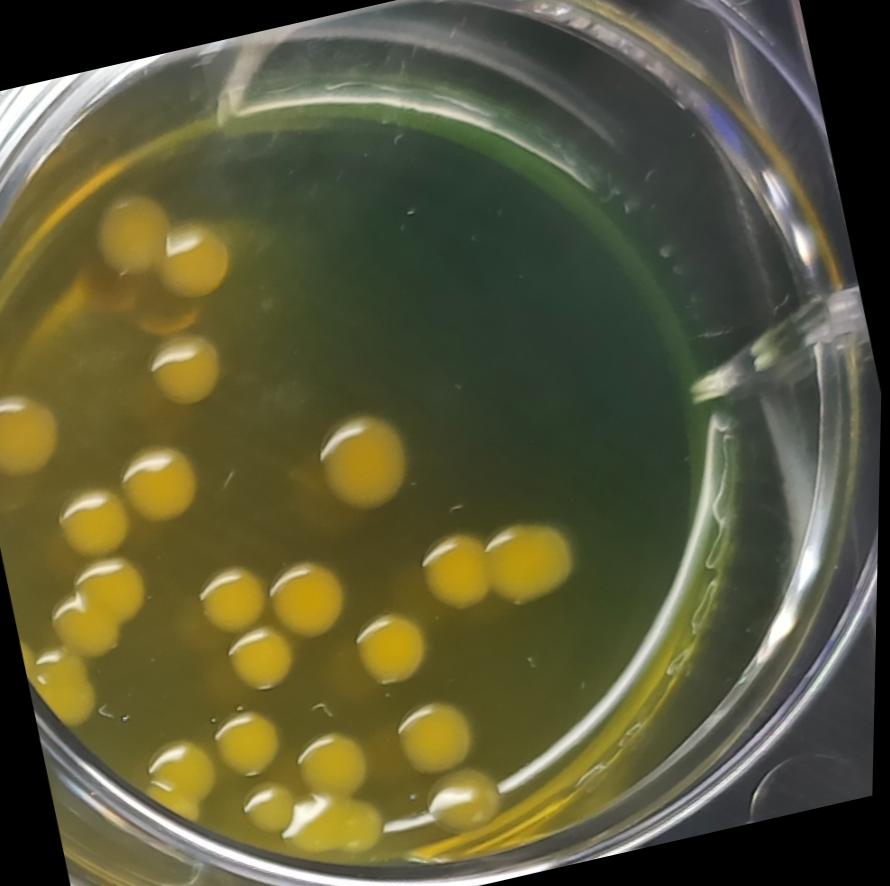vangil: (304, 398, 431, 526), (41, 546, 165, 674), (476, 509, 591, 629), (109, 426, 220, 538), (276, 779, 397, 876), (74, 185, 178, 291), (409, 520, 509, 629), (134, 316, 237, 414), (258, 552, 360, 650), (346, 603, 445, 702), (390, 691, 494, 785), (142, 205, 244, 300), (137, 733, 227, 836), (32, 641, 117, 744), (49, 474, 140, 569), (421, 761, 522, 846), (216, 614, 307, 708), (191, 558, 275, 648), (292, 722, 380, 807), (0, 388, 71, 489), (206, 706, 291, 786), (241, 775, 310, 842)
